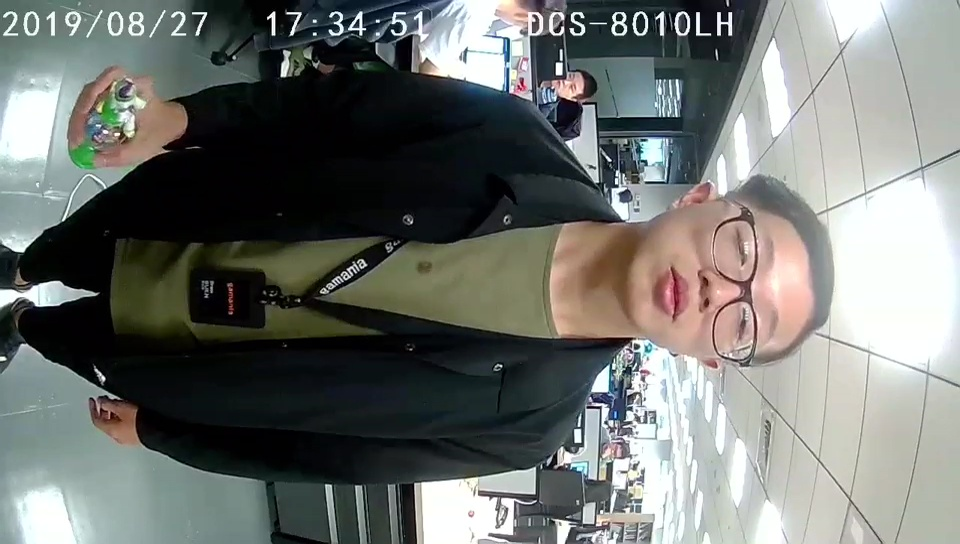buzz: (66, 74, 146, 170)
